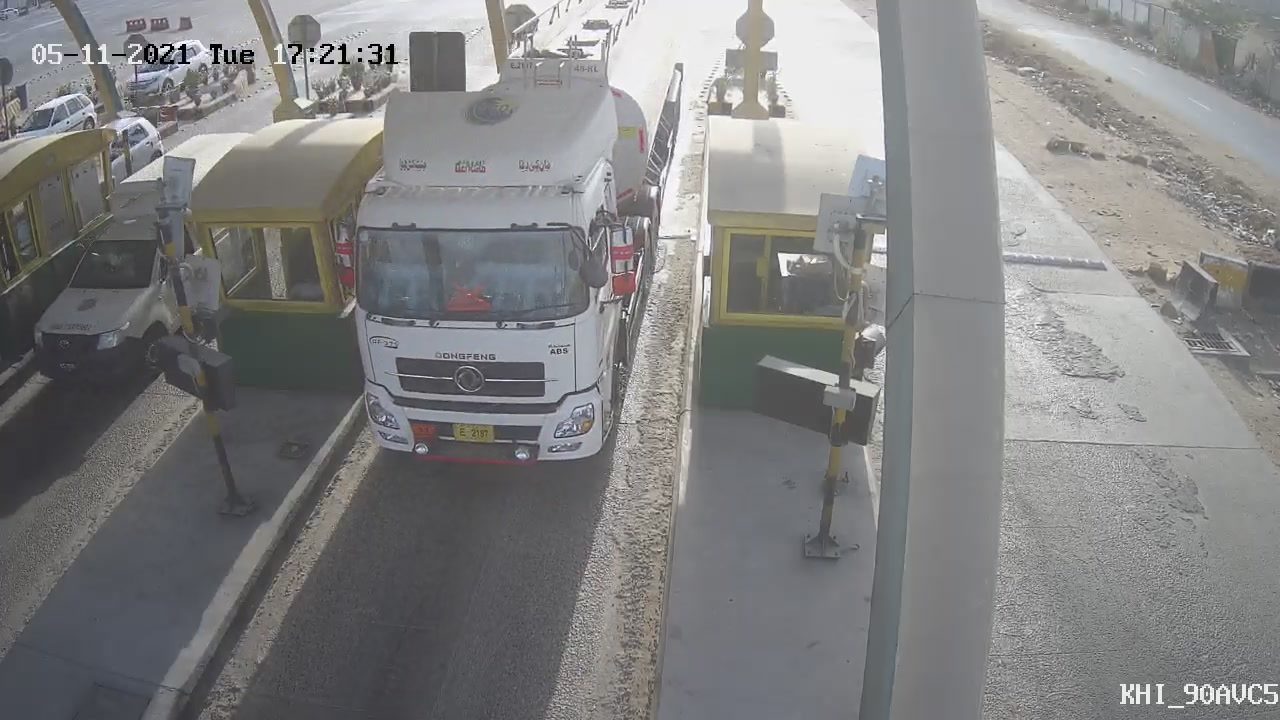F6: (308, 3, 701, 496)
